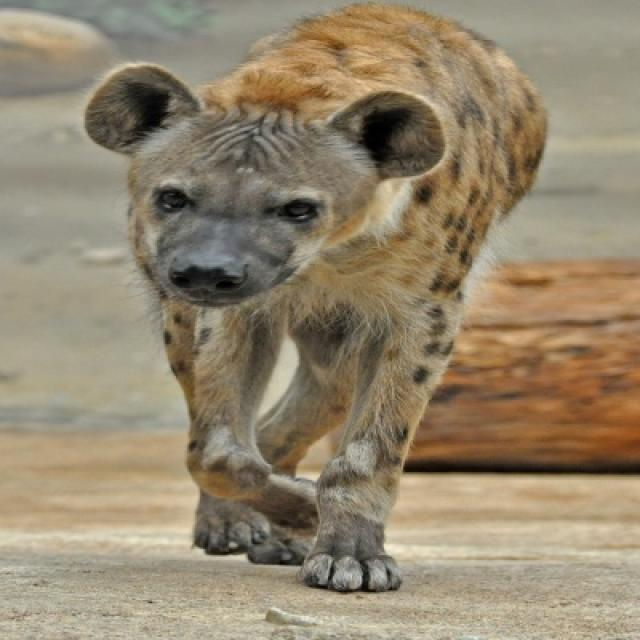hyena: (82, 5, 550, 595)
